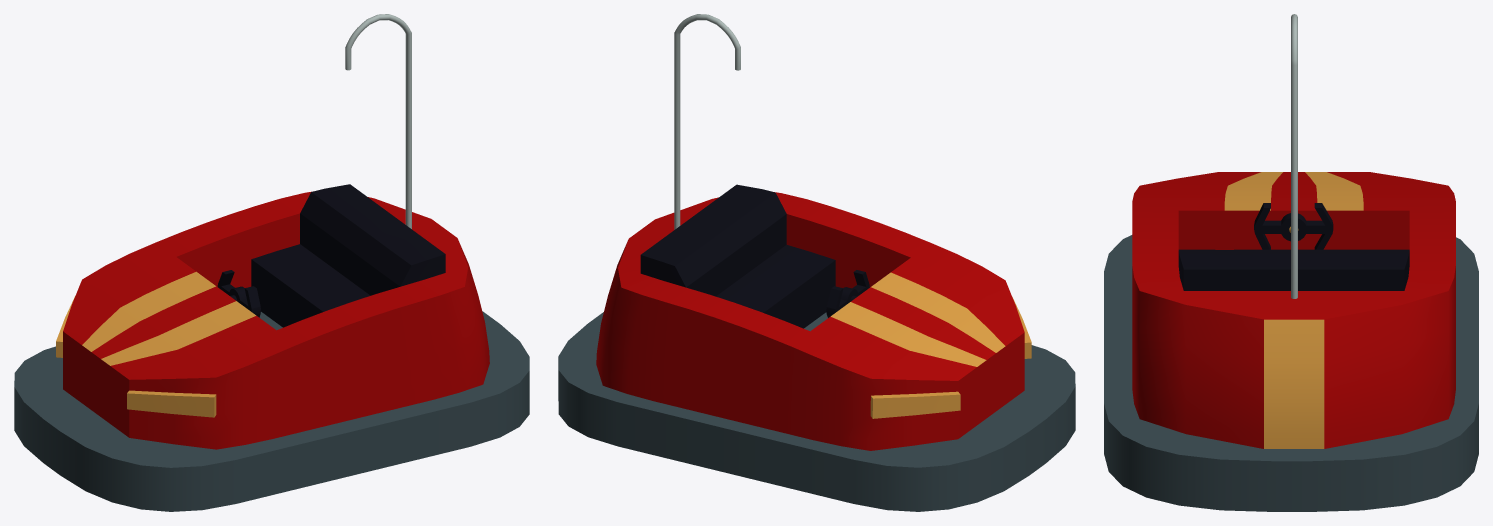
The model's file is F_Gokart.fbx.
3 renders of one model, left to right at view 1: azimuth 30°, elevation 25°; view 2: azimuth 150°, elevation 25°; view 3: azimuth 270°, elevation 25°, orthographic. The views are drawn at different scales.
Visible parts, largest first — view 1: F_Gokart_01; view 2: F_Gokart_01; view 3: F_Gokart_01.
Boxes of the visible parts, x1,y1,x2,y2 form: F_Gokart_01: (14,14,529,511); F_Gokart_01: (558,14,1075,511); F_Gokart_01: (1104,14,1478,511).
Bounding box in the file's own units: 275 × 224 × 176.
